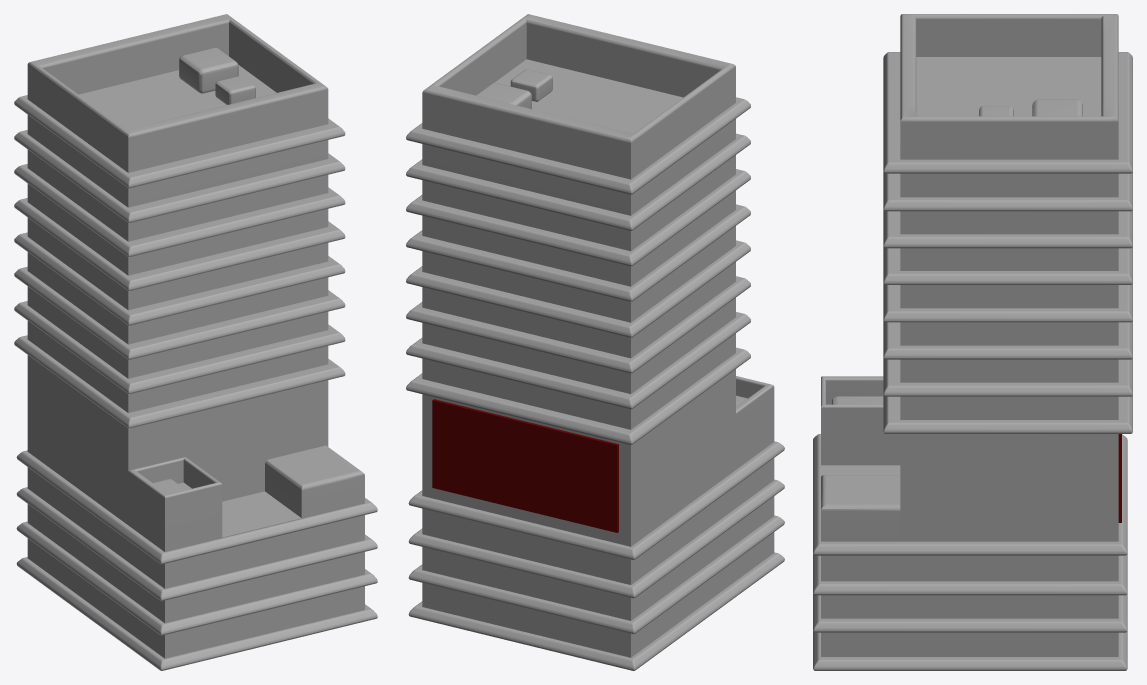
Rendered from Building_2.fbx.
The picture shows the model from 3 angles, left to right: view 1: azimuth 30°, elevation 25°; view 2: azimuth 150°, elevation 25°; view 3: azimuth 270°, elevation 25°; orthographic projection. The views are drawn at different scales.
Visible parts, largest first — view 1: pCube1, pCube13, pCube7, pCube11, pCube6, pCube8, pCube9, pCube12, pCube10, pCube4, pCube2, pCube5 (+3 smaller); view 2: pCube1, pCube17, pCube13, pCube11, pCube10, pCube8, pCube9, pCube12, pCube6, pCube7, pCube2, pCube3 (+4 smaller); view 3: pCube1, pCube13, pCube5, pCube4, pCube3, pCube2, pCube12, pCube9, pCube8, pCube11, pCube7, pCube6 (+2 smaller).
Part boxes in pixels (box(x1,y1,x2,y2)): pCube1: box(27, 14, 364, 658); pCube13: box(14, 65, 345, 188); pCube7: box(14, 301, 345, 394); pCube11: box(14, 164, 345, 257); pCube6: box(14, 335, 345, 428); pCube8: box(14, 266, 345, 359); pCube9: box(14, 232, 345, 325); pCube12: box(14, 130, 345, 222); pCube10: box(14, 198, 345, 291); pCube4: box(16, 487, 377, 601); pCube2: box(16, 557, 377, 670); pCube5: box(16, 450, 377, 564); pCube1: box(422, 14, 774, 657); pCube17: box(432, 399, 618, 532); pCube13: box(406, 59, 750, 194); pCube11: box(406, 169, 750, 266); pCube10: box(406, 204, 750, 301); pCube8: box(406, 276, 750, 373); pCube9: box(406, 240, 750, 337); pCube12: box(406, 133, 750, 230); pCube6: box(406, 347, 750, 444); pCube7: box(406, 312, 750, 409); pCube2: box(408, 552, 784, 670); pCube3: box(408, 515, 784, 633); pCube1: box(821, 14, 1118, 656); pCube13: box(883, 52, 1132, 173); pCube5: box(813, 434, 1127, 555); pCube4: box(813, 554, 1127, 595); pCube3: box(813, 593, 1127, 632); pCube2: box(813, 631, 1127, 670); pCube12: box(883, 172, 1132, 211); pCube9: box(883, 283, 1132, 322); pCube8: box(883, 320, 1132, 359); pCube11: box(883, 209, 1132, 248); pCube7: box(883, 358, 1132, 396); pCube6: box(883, 395, 1132, 433).
Size of the model in its own units: 39.76 by 88.32 by 46.71.
